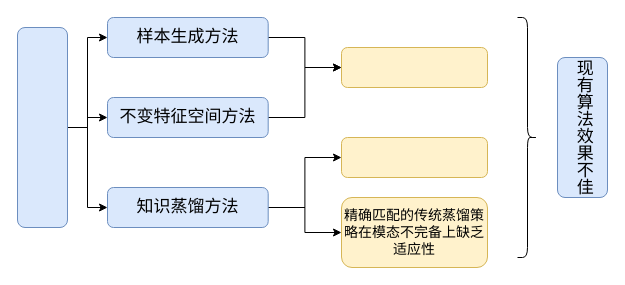
This 625x285 diagram has some shape labels left out. The box of each missing label's shape, as (x1, y1, x2, y2) in pixels:
传统蒸馏粒度过粗: (340, 136, 488, 178)
忽略了模态独有信息: (340, 46, 488, 88)
现有模态不完备相关算法: (16, 26, 68, 228)
